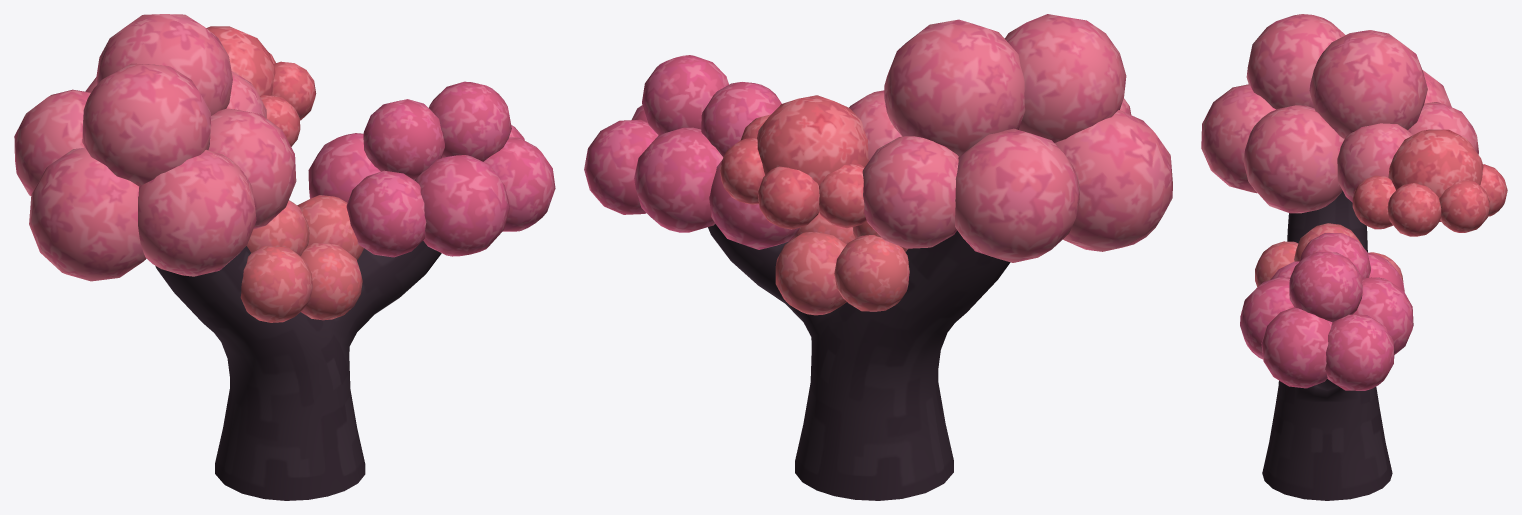
Rendered from cherryblossom_tree03.FBX.
The picture shows the model from 3 angles, left to right: view 1: azimuth 30°, elevation 25°; view 2: azimuth 150°, elevation 25°; view 3: azimuth 270°, elevation 25°; orthographic projection. The views are drawn at different scales.
Visible parts, largest first — view 1: Object012; view 2: Object012; view 3: Object012.
Boxes of the visible parts, box(x1,y1,x2,y2) form: Object012: box(14, 14, 555, 500); Object012: box(584, 14, 1172, 500); Object012: box(1201, 14, 1507, 500).
Size of the model in its own units: 349 by 297 by 209.
